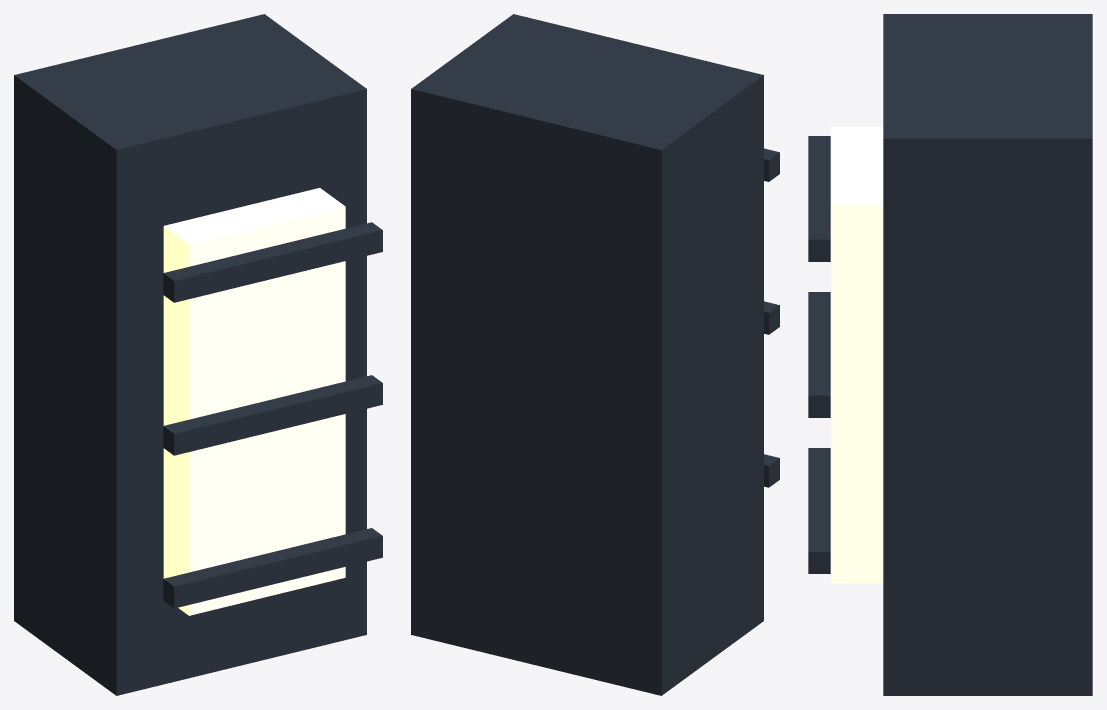
Rendered from wall_lamp.glb.
The picture shows the model from 3 angles, left to right: view 1: azimuth 30°, elevation 25°; view 2: azimuth 150°, elevation 25°; view 3: azimuth 270°, elevation 25°; orthographic projection. The views are drawn at different scales.
Parts seen in each view (by area): view 1: wall_lamp_Steel, wall_lamp_Lamp; view 2: wall_lamp_Steel; view 3: wall_lamp_Steel, wall_lamp_Lamp.
Boxes of the visible parts, <box> form: wall_lamp_Steel: <box>14,14,382,695</box>; wall_lamp_Lamp: <box>163,188,345,615</box>; wall_lamp_Steel: <box>411,14,779,695</box>; wall_lamp_Steel: <box>808,14,1092,695</box>; wall_lamp_Lamp: <box>831,126,883,583</box>.
Bounding box in the file's own units: 0.24 × 0.5 × 0.231.
